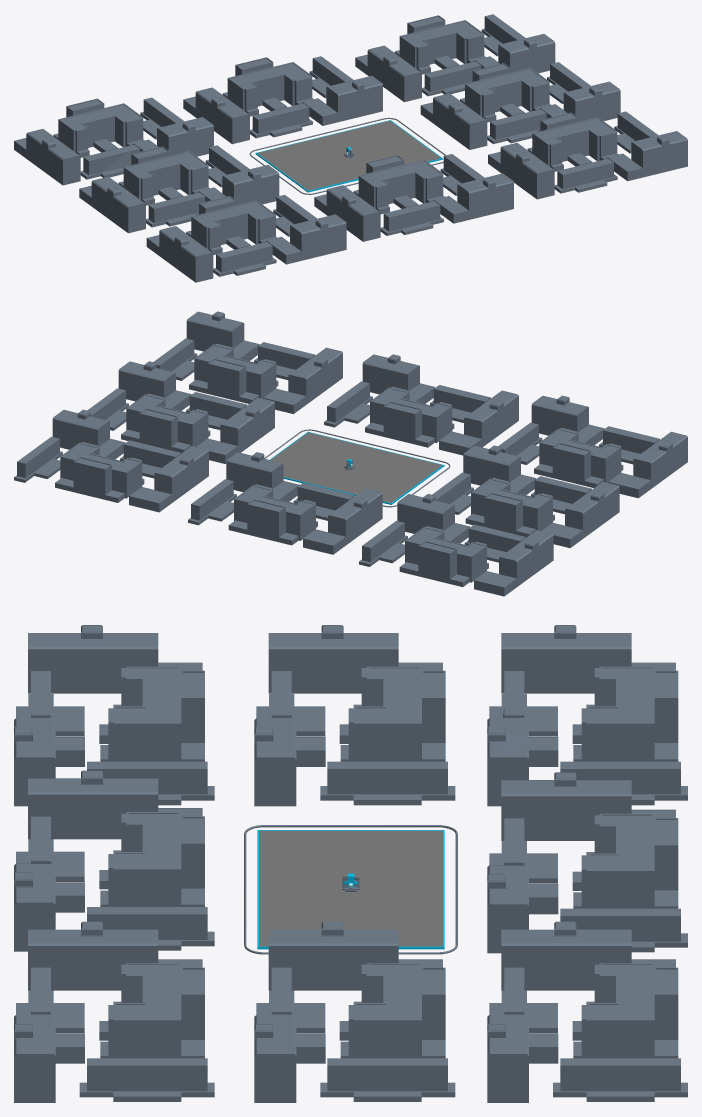
The model's file is computer-room.gltf.
The picture shows the model from 3 angles, top to bottom: view 1: azimuth 30°, elevation 25°; view 2: azimuth 150°, elevation 25°; view 3: azimuth 270°, elevation 25°; orthographic projection. The views are drawn at different scales.
Parts seen in each view (by area): view 1: Building, platform1, line, circle; view 2: Building, platform1, line, circle; view 3: Building, platform1, line, circle.
Boxes of the visible parts, left/top/right/bottom form: Building: left=14, top=14, right=687, bottom=282; platform1: left=257, top=120, right=441, bottom=190; line: left=249, top=117, right=445, bottom=194; circle: left=255, top=120, right=442, bottom=192; Building: left=14, top=311, right=687, bottom=596; platform1: left=270, top=432, right=442, bottom=502; line: left=264, top=429, right=450, bottom=507; circle: left=270, top=431, right=444, bottom=504; Building: left=14, top=625, right=687, bottom=1102; platform1: left=259, top=830, right=442, bottom=946; line: left=244, top=825, right=457, bottom=954; circle: left=257, top=830, right=444, bottom=949.
Size of the model in its own units: 1279 by 80.07 by 858.
